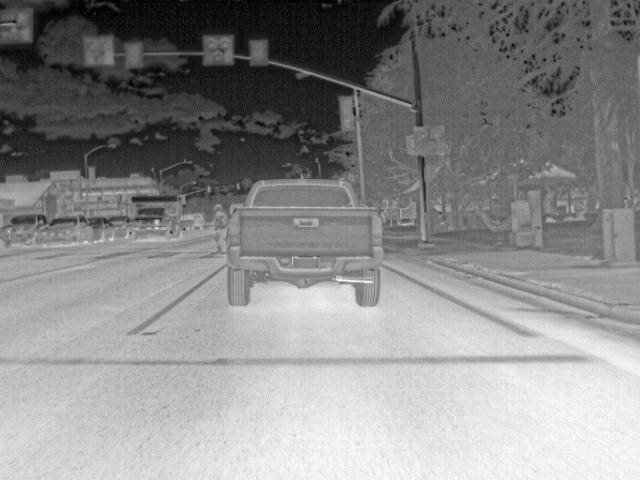car: (225, 177, 386, 308), (0, 214, 44, 249), (38, 216, 91, 244), (93, 215, 115, 243), (107, 214, 134, 235), (179, 211, 202, 231)
person: (210, 204, 226, 253)
